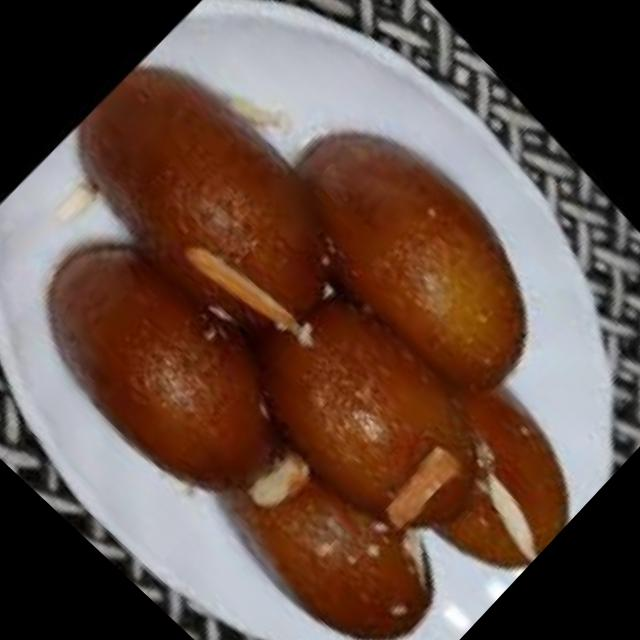gulab_jamun: (242, 82, 586, 420), (36, 29, 379, 367), (0, 197, 338, 530), (218, 256, 528, 562), (193, 393, 478, 640), (368, 346, 614, 591)
